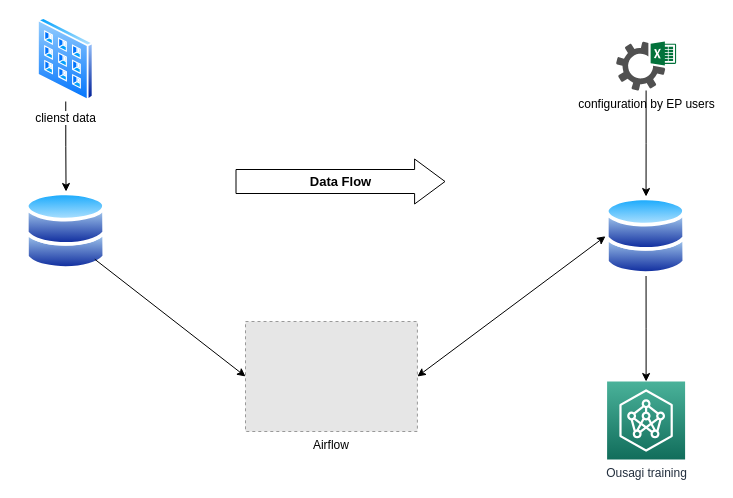
Image size: 733x498. Some labels were removed from this diagram. Grey dashed boxes stand in for pictures. The shapes that lost their labels are listed below. From the top down, each one's box as (x1, y1, x2, y2) in pixels, then its label:
(25, 191, 106, 270): Backend database
(605, 196, 686, 276): Ousagi database
